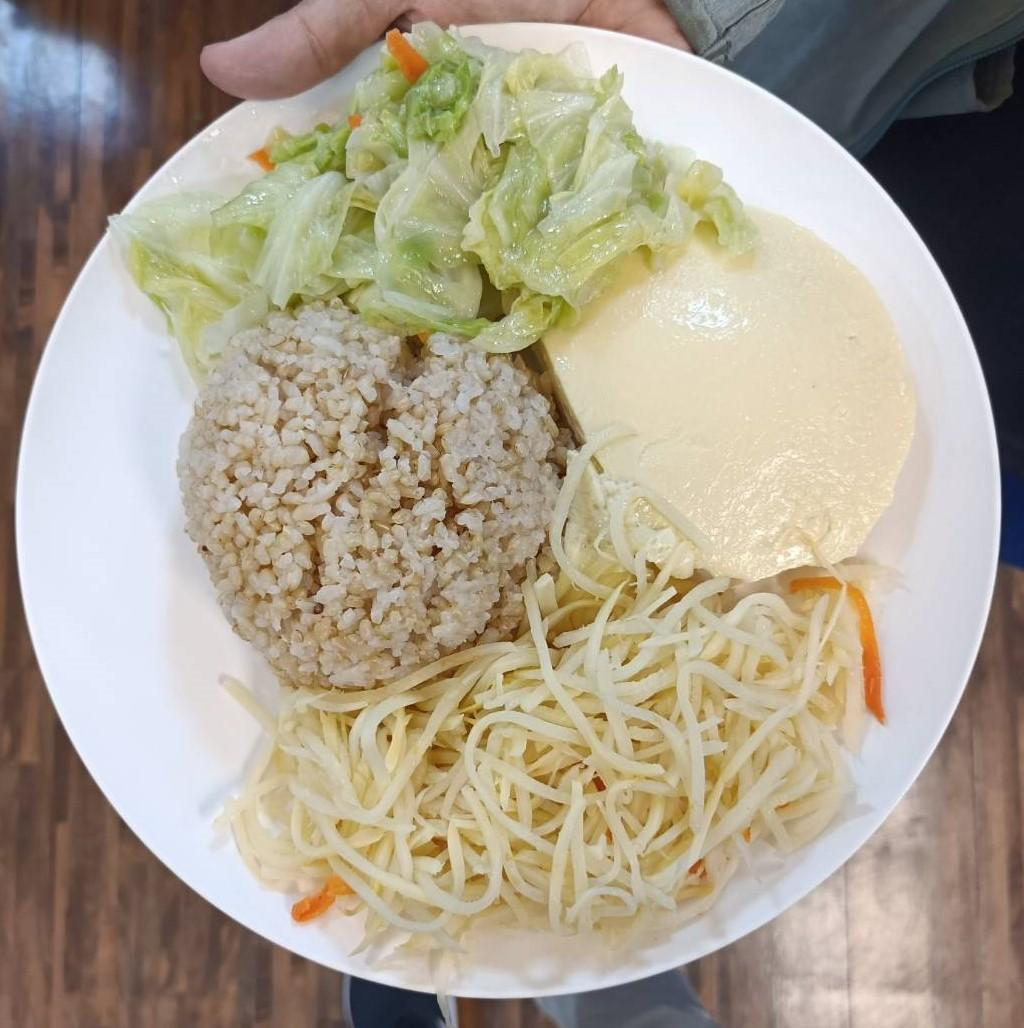big fried chicken leg: (18, 20, 1018, 1001)
box: (170, 300, 572, 683)
braised fish fillet: (244, 576, 879, 961), (142, 38, 738, 318), (512, 178, 928, 570)
